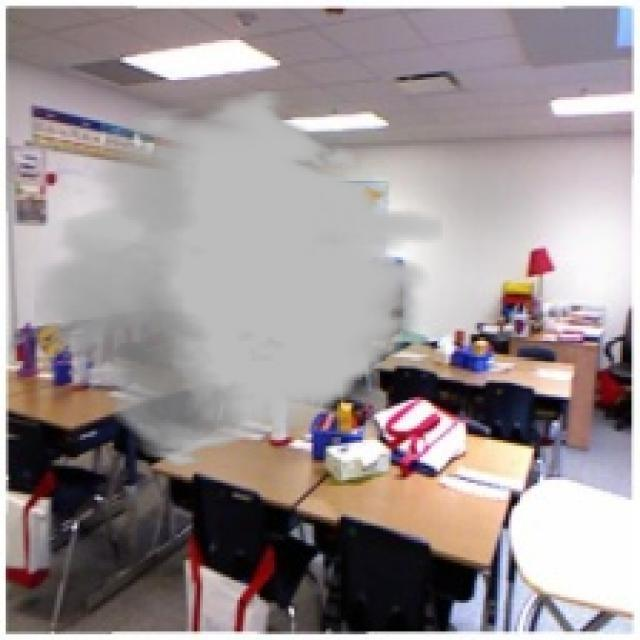Smoke: (34, 89, 443, 468)
